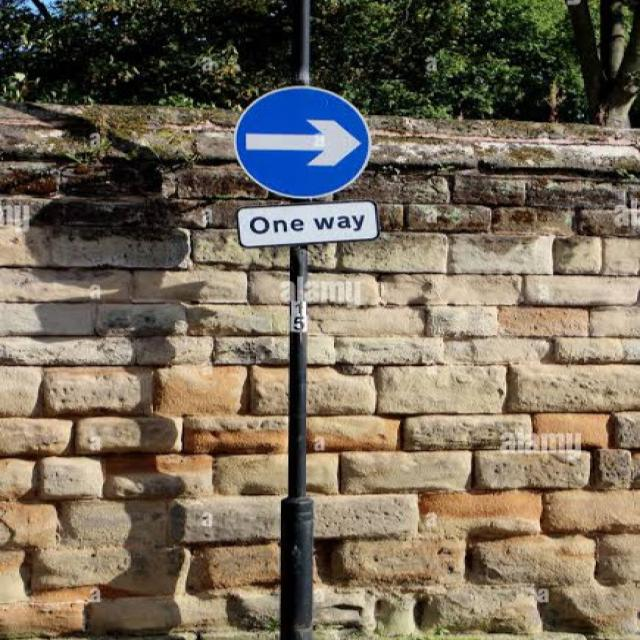Turn Right: (238, 91, 385, 206)
